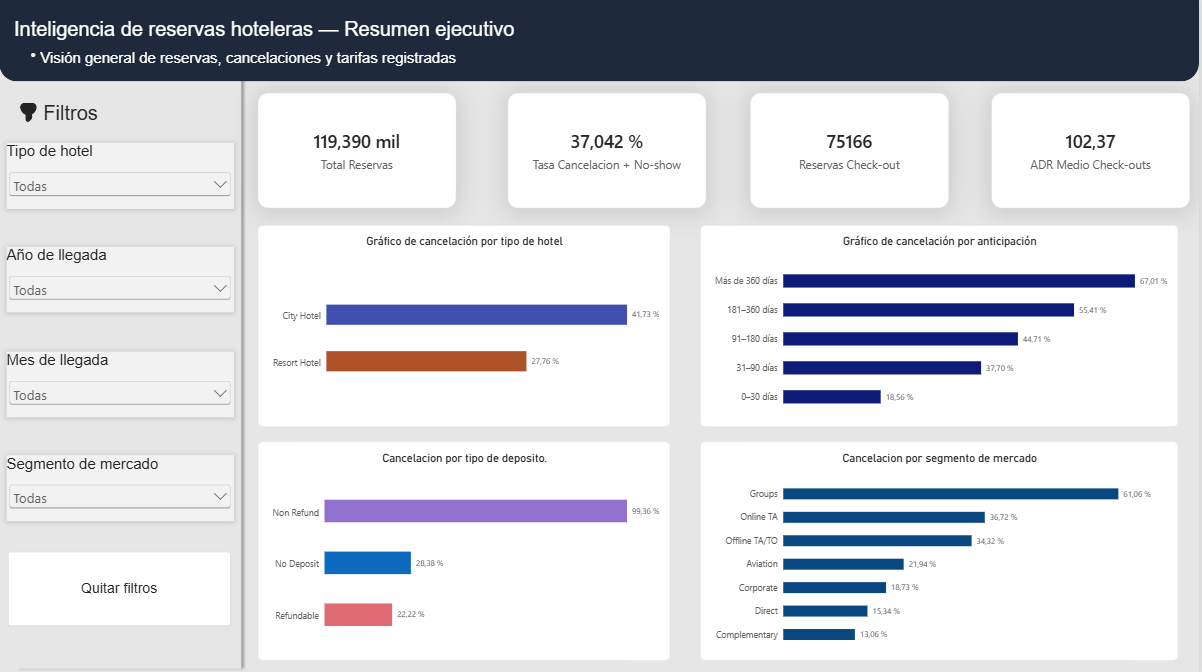

What the dashboard file says about the page in this screenshot:
{"tool":"powerbi","page":{"name":"Resumen ejecutivo","canvas":[1920,1080],"ordinal":0},"visuals":[{"type":"shape","box":[18.1,0,378.2,1080.4],"z":0},{"type":"shape","box":[29.9,166.4,34.1,20.5],"z":0,"group":"g2"},{"type":"slicer","title":"Tipo de hotel","fields":{"Values":["Reservas.hotel"]},"box":[11.1,229.3,363.7,105.4],"z":0,"group":"g1"},{"type":"shape","box":[0,0,1920.1,132.1],"z":1000},{"type":"shape","box":[41.1,175.4,11.7,23],"z":1000,"group":"g2"},{"type":"slicer","title":"Año de llegada","fields":{"Values":["Reservas.arrival_date_year"]},"box":[11.1,394.3,363.7,105.4],"z":1000,"group":"g1"},{"type":"textbox","box":[30.8,75.3,825.2,38],"z":2000},{"type":"slicer","title":"Mes de llegada","fields":{"Values":["Reservas.MesAño"]},"box":[11.1,563.3,363.7,105.4],"z":2000,"group":"g1"},{"type":"textbox","box":[23.5,30.1,832.4,45.2],"z":3000},{"type":"slicer","title":"Segmento de mercado","fields":{"Values":["Reservas.market_segment"]},"box":[11.1,728.3,363.7,105.4],"z":3000,"group":"g1"},{"type":"card","fields":{"Values":["Reservas.Total Reservas"]},"box":[414.4,150.2,317.3,184.6],"z":4000},{"type":"card","fields":{"Values":["Reservas.Tasa Cancelacion + No-show"]},"box":[813.3,150.2,317.3,184.6],"z":5000},{"type":"card","fields":{"Values":["Reservas.Reservas Check-out"]},"box":[1201.1,150.2,317.3,184.6],"z":6000},{"type":"card","fields":{"Values":["Reservas.ADR Medio Check-outs"]},"box":[1588.3,150.2,317.3,184.6],"z":7000},{"type":"group","id":"g1","title":"Grupo 1","box":[11.1,229.3,363.7,604.4],"z":8000},{"type":"textbox","box":[61.9,164.3,170.7,51.2],"z":9000},{"type":"group","id":"g2","title":"Grupo 2","box":[29.9,166.4,34.1,32],"z":10000},{"type":"clusteredBarChart","title":"Gráfico de cancelación por tipo de hotel","fields":{"Category":["Reservas.hotel"],"Y":["Reservas.Tasa Cancelacion + No-show"]},"box":[413.4,361.4,660,322.5],"z":11000},{"type":"clusteredBarChart","title":"Gráfico de cancelación por anticipación","fields":{"Category":["Reservas.RangoAnticipacion"],"Y":["Reservas.Tasa Cancelacion + No-show"]},"box":[1122.5,361.4,764.7,322.5],"z":12000},{"type":"clusteredBarChart","title":"Cancelacion por tipo de deposito.","fields":{"Category":["Reservas.deposit_type"],"Y":["Reservas.Tasa Cancelacion + No-show"]},"box":[413.4,707.7,660,350.6],"z":13000},{"type":"clusteredBarChart","title":"Cancelacion por segmento de mercado","fields":{"Category":["Reservas.market_segment"],"Y":["Reservas.Tasa Cancelacion + No-show"]},"box":[1122.5,707.7,764.7,350.6],"z":14000},{"type":"actionButton","title":"Quitar filtros","box":[14.5,883.1,356.5,119.4],"z":15000}]}

Visuals, with their boxes in screenshot pixels (x1, y1, x2, y2), scaled from the page's 1920x1080 canvas onto the 1202x672 screenshot:
shape: select_region(11, 0, 248, 671)
shape: select_region(19, 104, 40, 116)
"Tipo de hotel" slicer: select_region(7, 143, 235, 208)
shape: select_region(0, 0, 1201, 82)
shape: select_region(26, 109, 33, 123)
"Año de llegada" slicer: select_region(7, 245, 235, 311)
textbox: select_region(19, 47, 536, 70)
"Mes de llegada" slicer: select_region(7, 350, 235, 416)
textbox: select_region(15, 19, 536, 47)
"Segmento de mercado" slicer: select_region(7, 453, 235, 519)
card - Reservas.Total Reservas: select_region(259, 93, 458, 208)
card - Reservas.Tasa Cancelacion + No-show: select_region(509, 93, 708, 208)
card - Reservas.Reservas Check-out: select_region(752, 93, 951, 208)
card - Reservas.ADR Medio Check-outs: select_region(994, 93, 1193, 208)
"Grupo 1" group: select_region(7, 143, 235, 519)
textbox: select_region(39, 102, 146, 134)
"Grupo 2" group: select_region(19, 104, 40, 123)
"Gráfico de cancelación por tipo de hotel" clusteredBarChart: select_region(259, 225, 672, 426)
"Gráfico de cancelación por anticipación" clusteredBarChart: select_region(703, 225, 1181, 426)
"Cancelacion por tipo de deposito." clusteredBarChart: select_region(259, 440, 672, 658)
"Cancelacion por segmento de mercado" clusteredBarChart: select_region(703, 440, 1181, 658)
"Quitar filtros" actionButton: select_region(9, 549, 232, 624)
